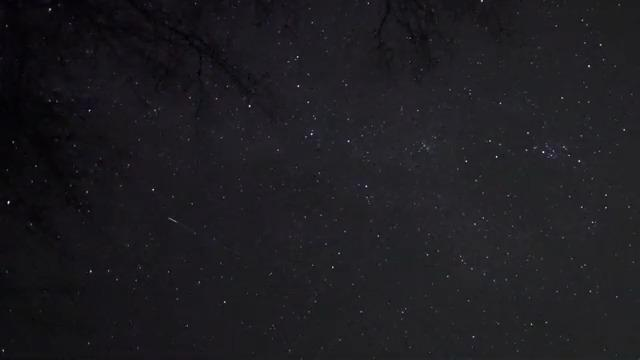meteorite: (149, 213, 207, 231)
